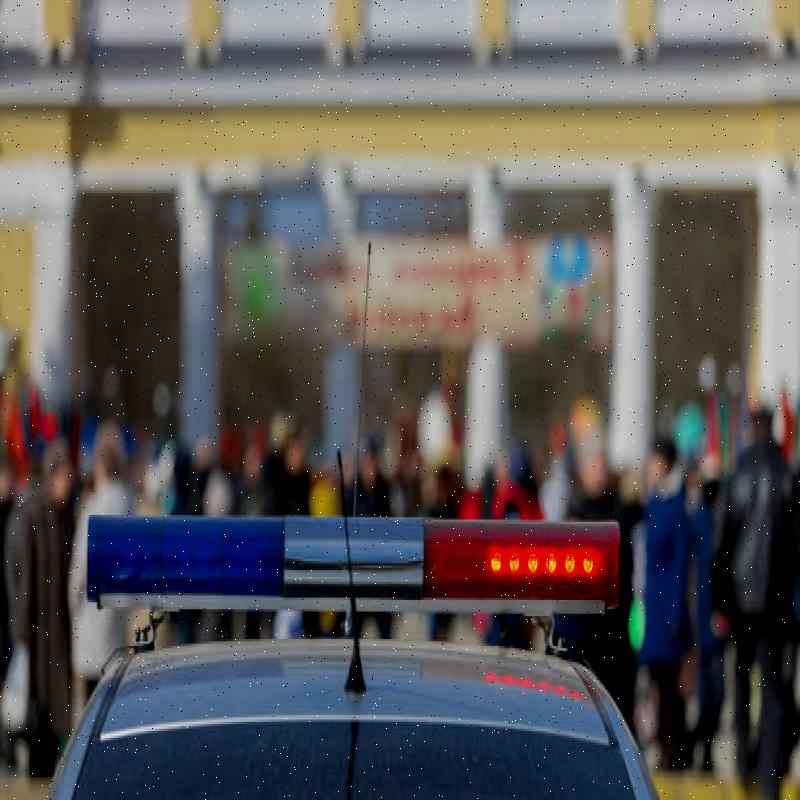AmbulanceSiren: (76, 499, 636, 625)
